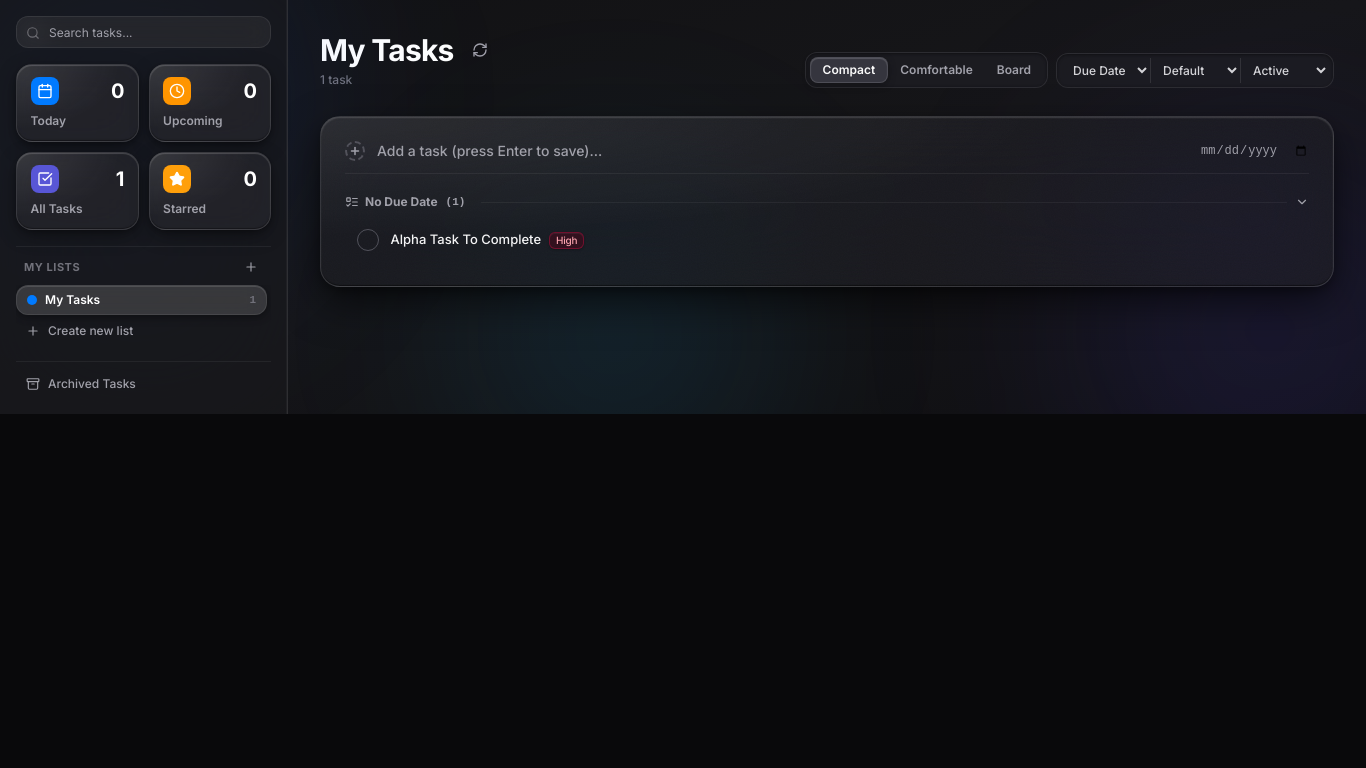
Test case: Tasks View Fixes & Reliability › marking a task complete keeps it visible in Completed section without blanking the screen
This screenshot has width=1366, height=768.
Expected: the text "Alpha Task To Complete" is shown, [391,230,541,250]
Click the button named "Toggle complete" at (368,240), box [357,229,379,251]
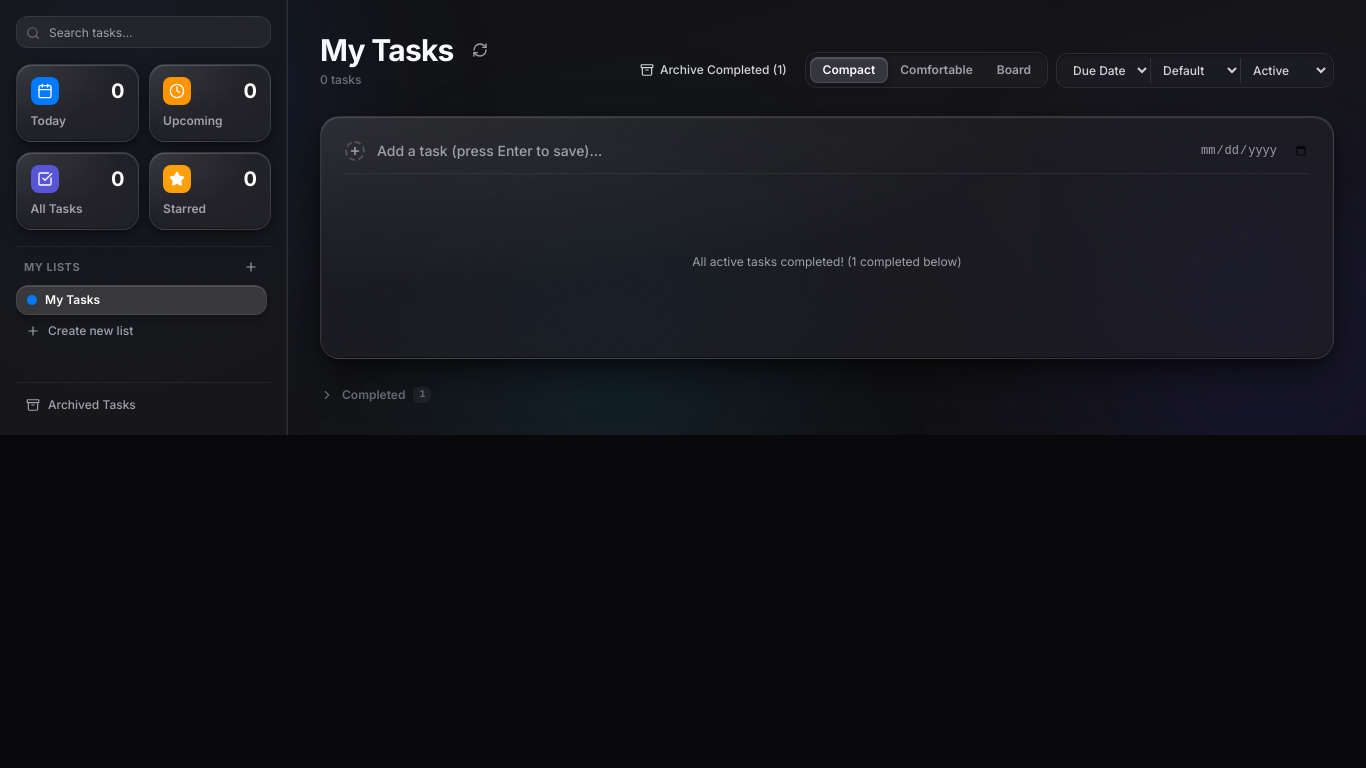
Expected: the text "All active tasks completed! (1 completed below)" is shown, [692,254,962,269]
Expected: the button "Completed 1" is shown
Expected: the text "Alpha Task To Complete" is gone
# Clicking completed toggle expands the section and reveals completed task
Click the button "Completed 1" at (376,395), box [320,387,431,403]
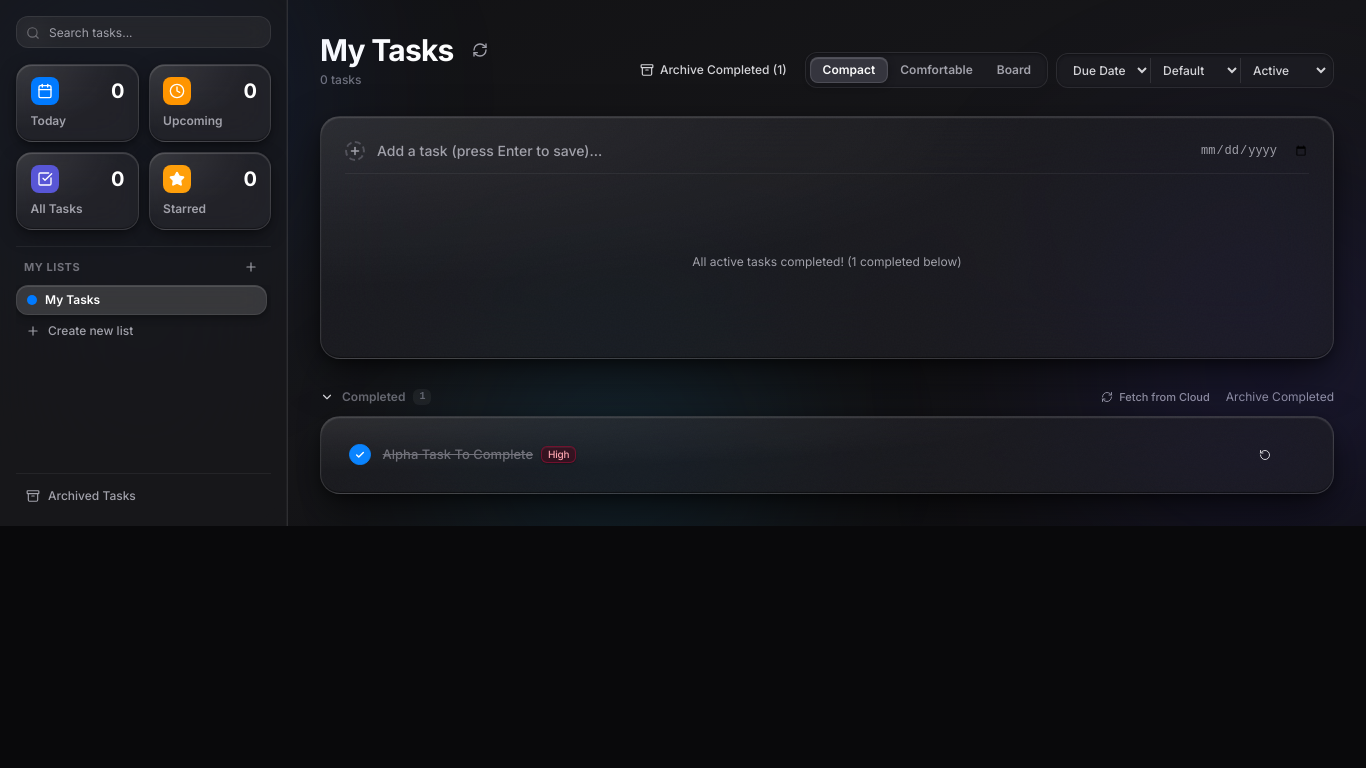
Expected: the text "Alpha Task To Complete" is shown, [383,445,533,464]
# Clicking complete again restores the task back to active
Click the button named "Toggle complete" at (360,454), box [349,444,371,465]
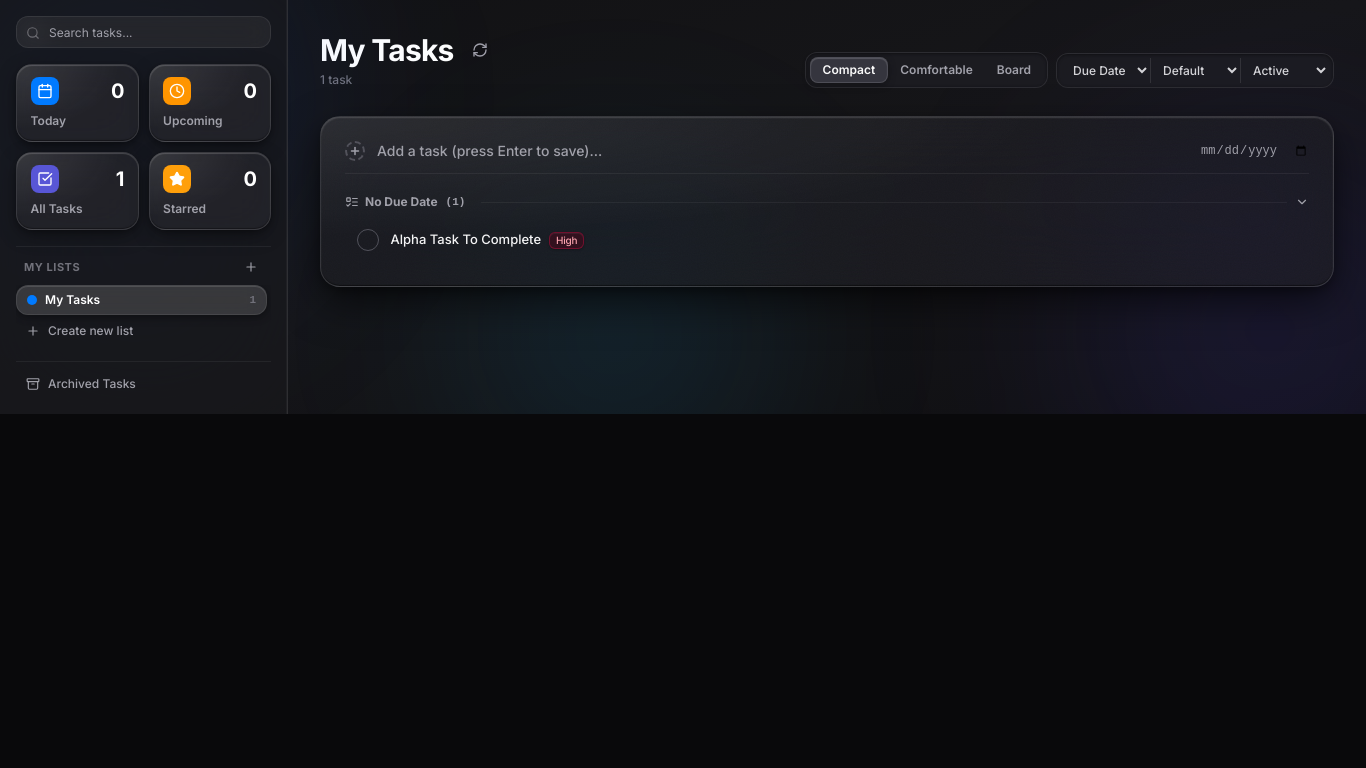
Expected: the text "Alpha Task To Complete" is shown, [391,230,541,250]
Expected: the text "All active tasks completed!" is gone
